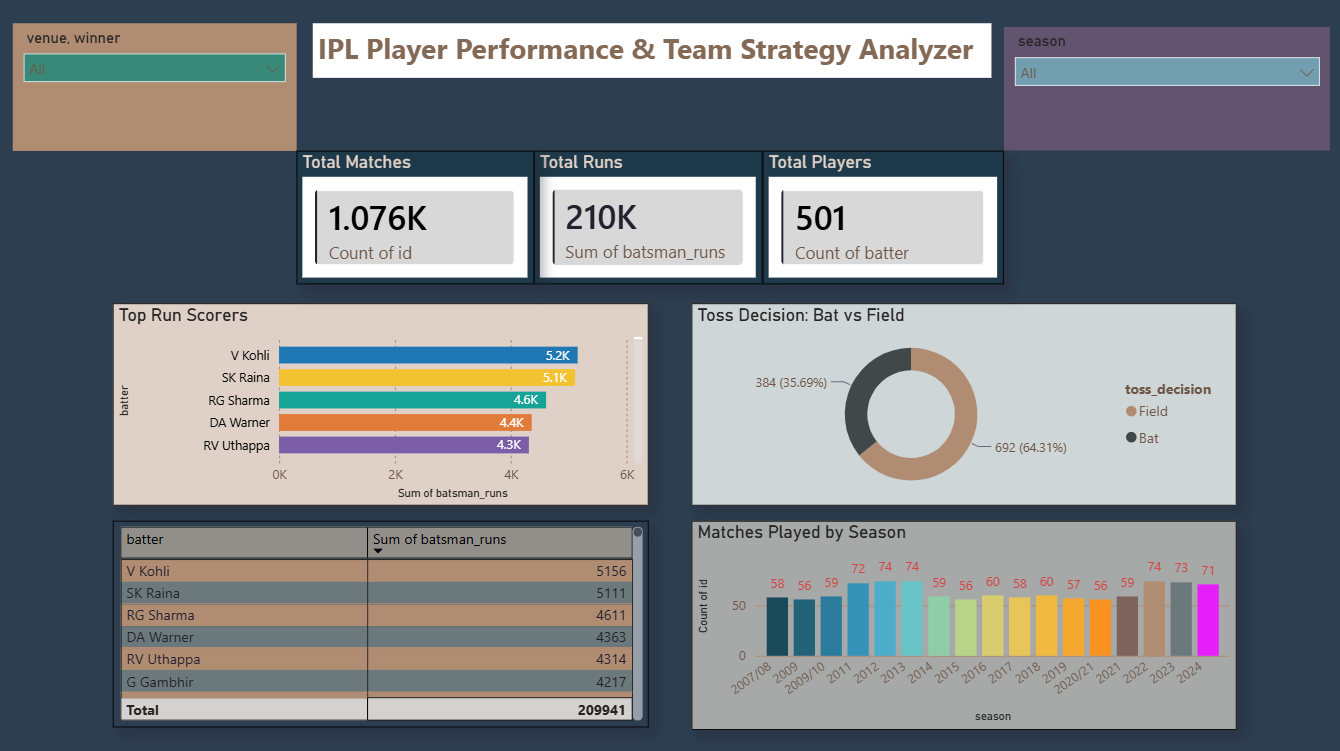

The page's visual inventory and layout, read from the dashboard file:
{"tool":"powerbi","page":{"name":"Page 1","canvas":[1280,720],"ordinal":0},"visuals":[{"type":"cardVisual","fields":{"Data":["CountNonNull(matches_clean.id)"]},"box":[421,9,294,280],"z":0},{"type":"tableEx","fields":{"Values":["deliveries_clean.batter","deliveries_clean.batsman_runs"]},"box":[38,338,306,232],"z":1000},{"type":"donutChart","fields":{"Category":["matches_clean.toss_decision"],"Y":["CountNonNull(matches_clean.id)"]},"box":[754,9,303,280],"z":2000},{"type":"lineChart","fields":{"Category":["matches_clean.season"],"Y":["CountNonNull(matches_clean.id)"]},"box":[421,325,439,258],"z":3000},{"type":"clusteredBarChart","fields":{"Category":["deliveries_clean.batter"],"Y":["Sum(deliveries_clean.batsman_runs)"]},"box":[53,9,329,280],"z":4000}]}

Visuals, with their boxes in screenshot pixels (x1, y1, x2, y2), scaled from the page's 1280x720 canvas onto the 1340x751 screenshot:
cardVisual - CountNonNull(matches_clean.id): [441, 9, 749, 301]
tableEx - deliveries_clean.batter x deliveries_clean.batsman_runs: [40, 353, 360, 595]
donutChart - matches_clean.toss_decision x CountNonNull(matches_clean.id): [789, 9, 1107, 301]
lineChart - matches_clean.season x CountNonNull(matches_clean.id): [441, 339, 900, 608]
clusteredBarChart - deliveries_clean.batter x Sum(deliveries_clean.batsman_runs): [55, 9, 400, 301]
